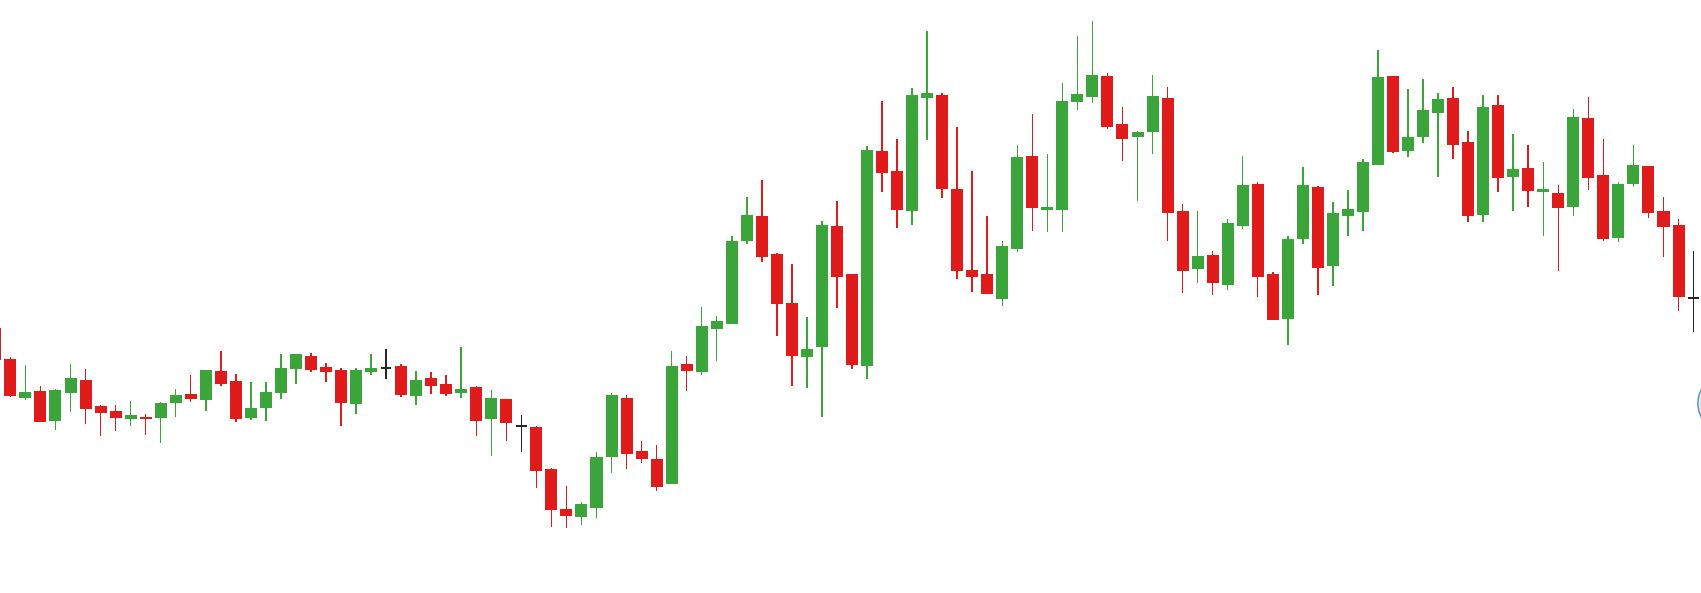buy: (680, 289, 829, 423)
sell: (1143, 51, 1401, 236), (919, 35, 1084, 182)
